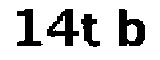1: (9, 6, 45, 53)
4: (45, 3, 79, 50)
b: (114, 10, 149, 52)
t: (80, 10, 103, 49)
